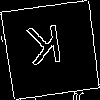K: (25, 24, 65, 74)
